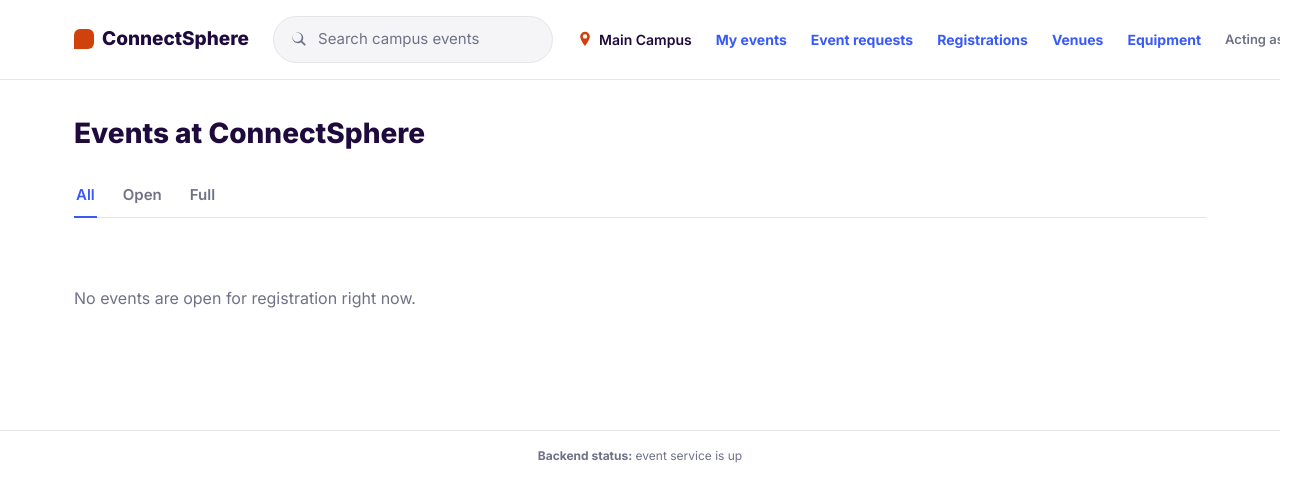
the fake backend follows SCRUM-120's access rules (US16b, TC-US16B-32) › lists a coordinator only the requests assigned to them (D48)
Click the button "Event requests": [862, 39] box [811,29,913,50]
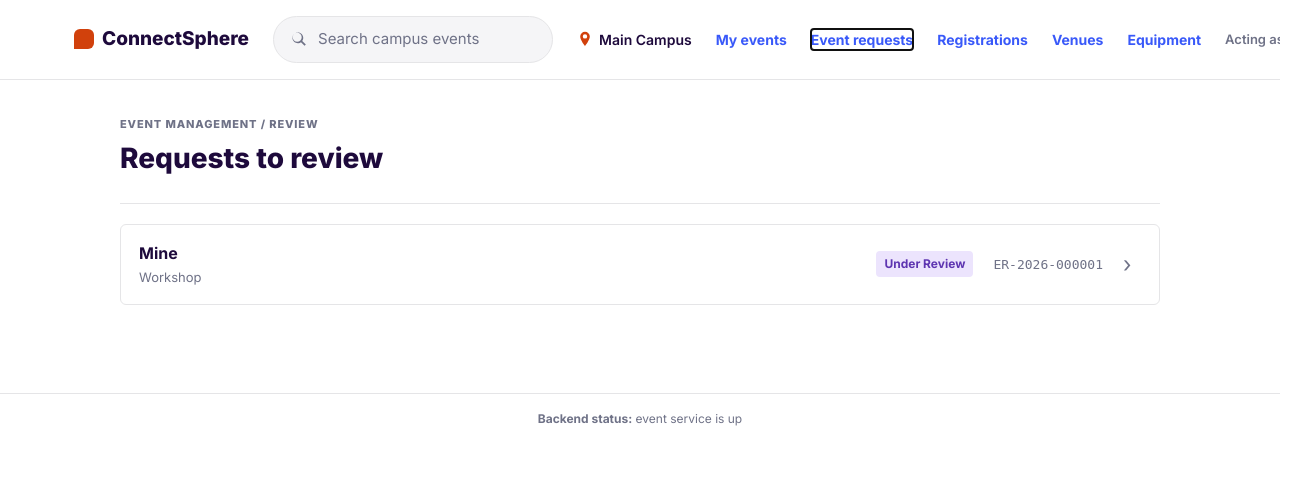
Expected: the button "Mine Workshop under review ER-2026-000001 ›" is shown, [120,224,1160,304]
